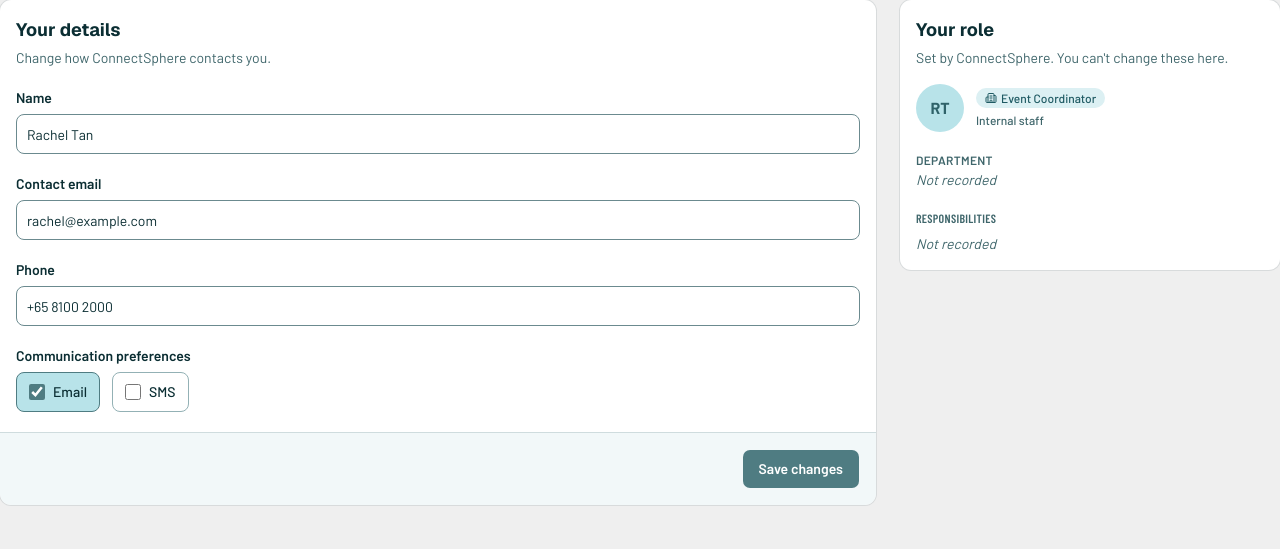
it: SCRUM-68/AC6 profile form: saving › 68-S7: shows the service's message next to the email box, and does not say 'Profile updated.'
Replace the text in the field labelled "Contact email" with "priya@example.com": (438, 220) [16,200,860,240]
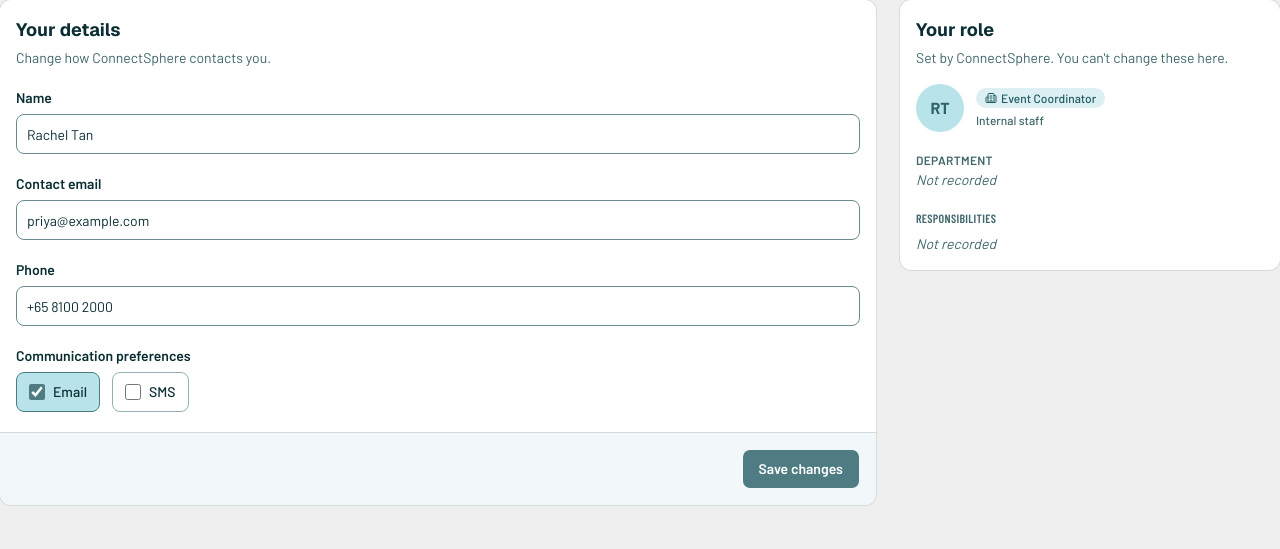
Click the button "Save changes": click(801, 469) [742,449,860,489]
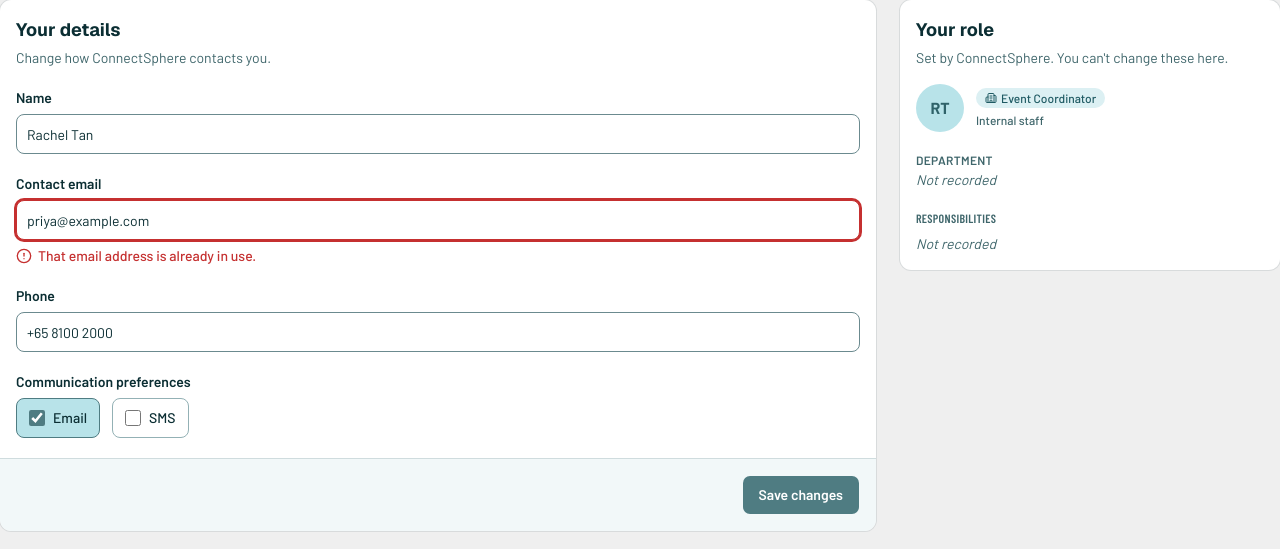
Expected: the text "That email address is already in use." is shown, [16,247,256,264]
